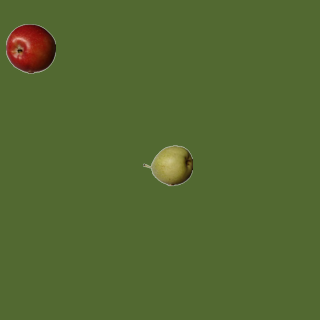Apple Braeburn: (5, 23, 55, 73)
Pear: (142, 140, 192, 190)
